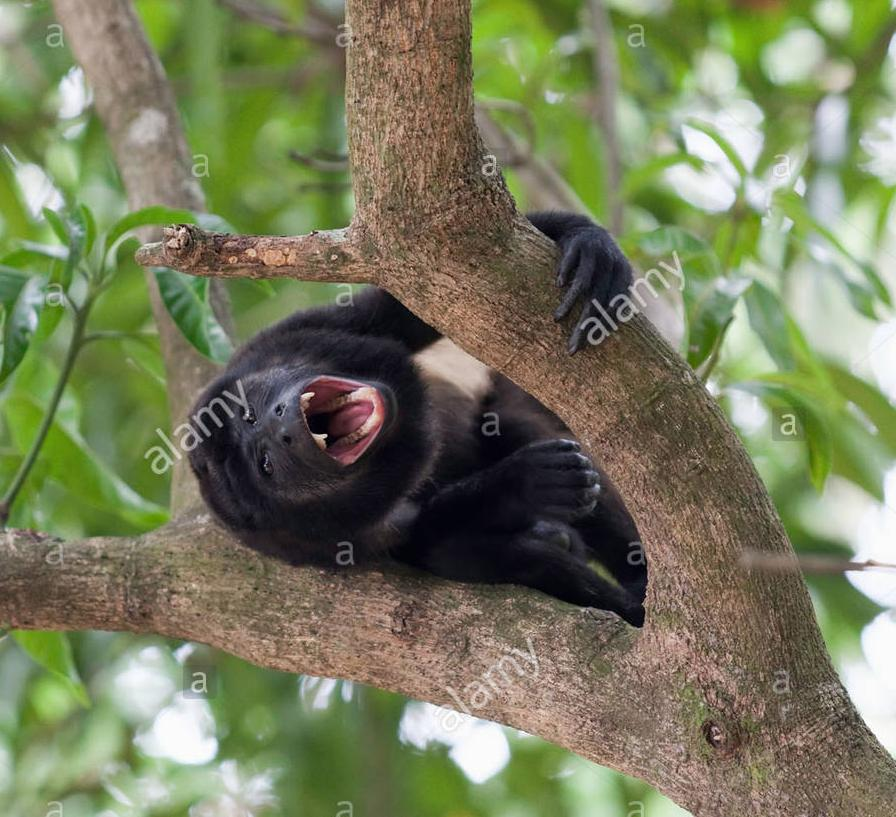monkey: (181, 287, 646, 625), (532, 212, 631, 321)
